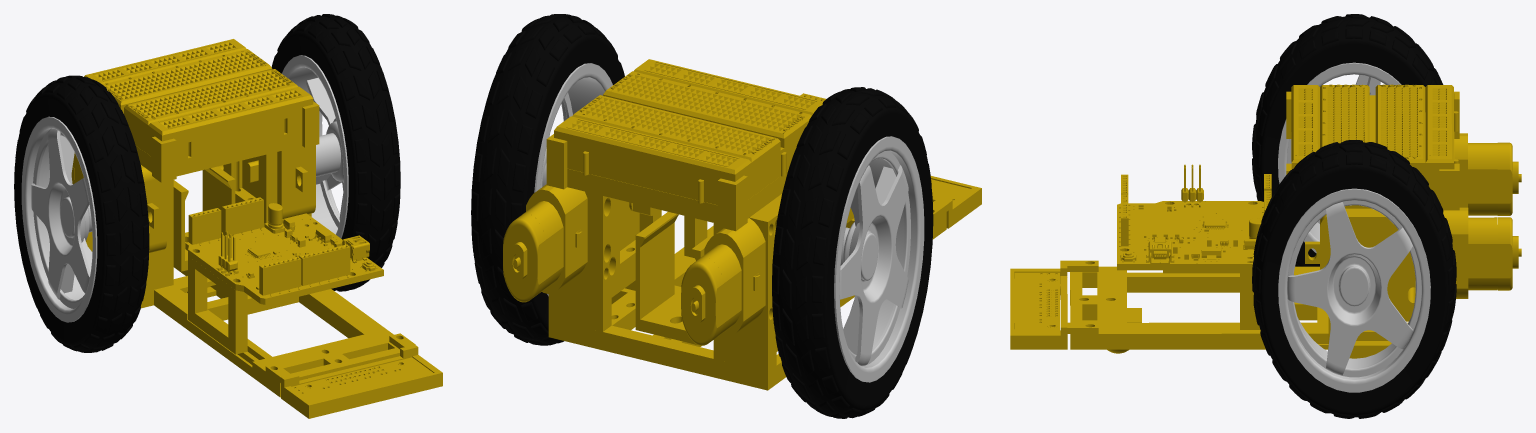
Rendered from car.obj.
3 renders of one model, left to right at view 1: azimuth 30°, elevation 25°; view 2: azimuth 150°, elevation 25°; view 3: azimuth 270°, elevation 25°, orthographic. The views are drawn at different scales.
Visible parts, largest first — view 1: linefollower, wheelR, wheelL, wheelRrim, wheelLrim; view 2: linefollower, wheelR, wheelL, wheelRrim, wheelLrim; view 3: linefollower, wheelL, wheelLrim, wheelR, wheelRrim.
Boxes of the visible parts, x1=… form: linefollower: x1=71, y1=39, x2=442, y2=418; wheelR: x1=14, y1=75, x2=149, y2=352; wheelL: x1=271, y1=14, x2=400, y2=291; wheelRrim: x1=21, y1=116, x2=97, y2=322; wheelLrim: x1=282, y1=55, x2=348, y2=238; linefollower: x1=503, y1=59, x2=981, y2=390; wheelR: x1=772, y1=87, x2=933, y2=418; wheelL: x1=471, y1=14, x2=624, y2=345; wheelRrim: x1=834, y1=136, x2=924, y2=382; wheelLrim: x1=534, y1=63, x2=612, y2=296; linefollower: x1=1010, y1=84, x2=1521, y2=358; wheelL: x1=1252, y1=140, x2=1456, y2=418; wheelLrim: x1=1278, y1=188, x2=1430, y2=392; wheelR: x1=1252, y1=14, x2=1443, y2=266; wheelRrim: x1=1278, y1=62, x2=1401, y2=253.
Bounding box in the file's own units: 2.76 × 2.36 × 4.
